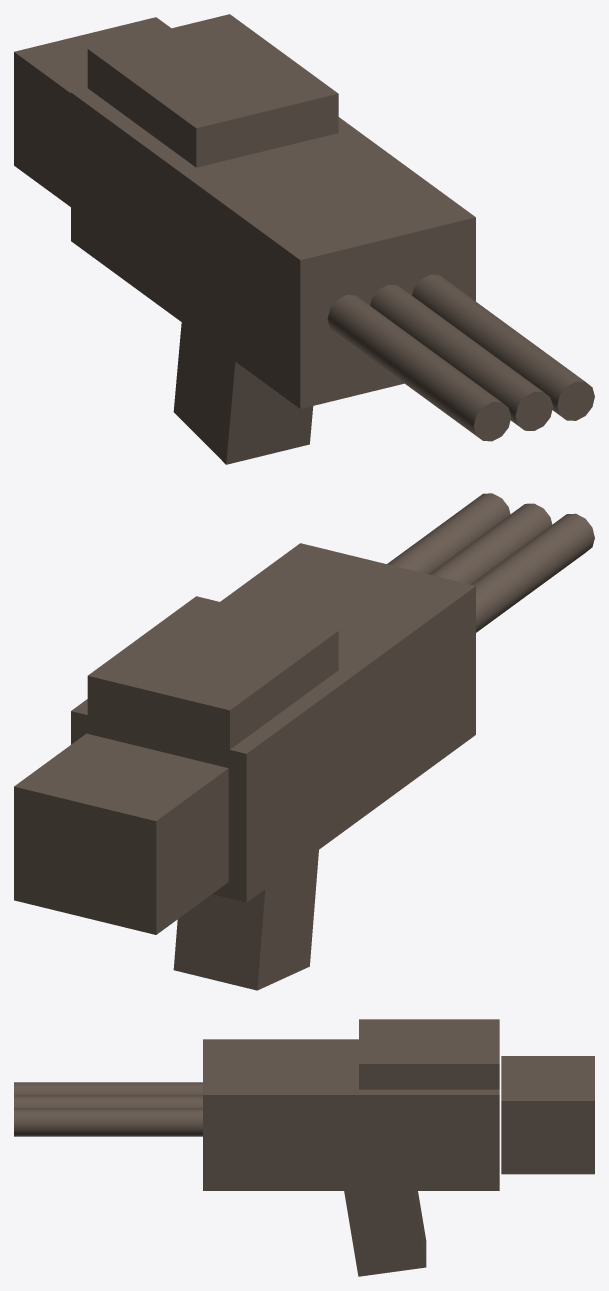
File: heavy_weapon.gltf
The picture shows the model from 3 angles, top to bottom: view 1: azimuth 30°, elevation 25°; view 2: azimuth 150°, elevation 25°; view 3: azimuth 270°, elevation 25°; orthographic projection. The views are drawn at different scales.
Parts seen in each view (by area): view 1: heavy_weapon; view 2: heavy_weapon; view 3: heavy_weapon.
Boxes of the visible parts, x1,y1,x2,y2 form: heavy_weapon: (14,14,594,464); heavy_weapon: (14,493,594,990); heavy_weapon: (14,1019,594,1276).
Bounding box in the file's own units: 0.42 × 0.7841 × 1.86.
